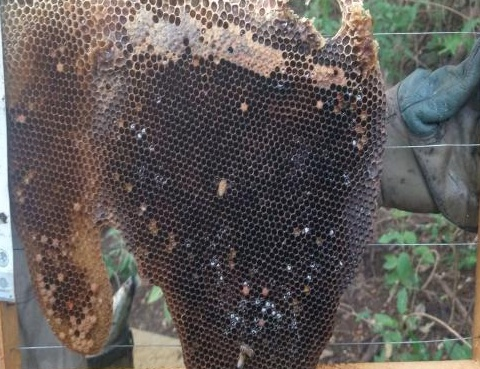cria: (33, 202, 103, 356)
